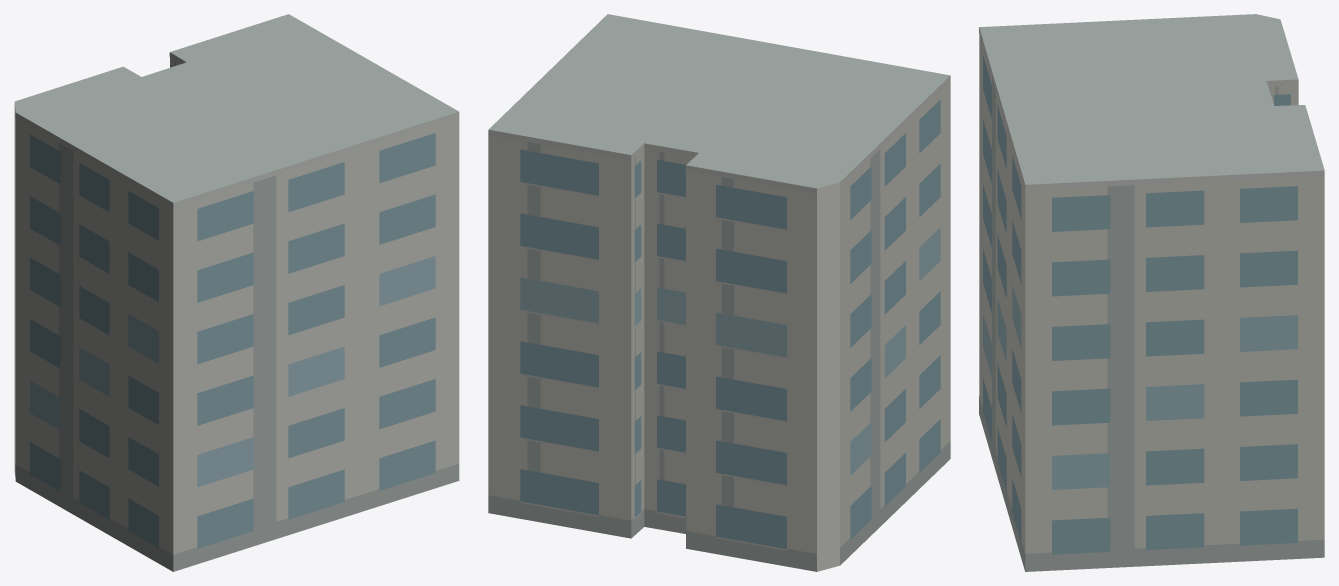
The model's file is survey-upis-32634005.glb.
The picture shows the model from 3 angles, left to right: view 1: azimuth 30°, elevation 25°; view 2: azimuth 150°, elevation 25°; view 3: azimuth 270°, elevation 25°; orthographic projection. The views are drawn at different scales.
Visible parts, largest first — view 1: survey-upis-32634005.tmp; view 2: survey-upis-32634005.tmp; view 3: survey-upis-32634005.tmp.
Boxes of the visible parts, x1,y1,x2,y2 form: survey-upis-32634005.tmp: (14,14,459,571); survey-upis-32634005.tmp: (488,14,950,571); survey-upis-32634005.tmp: (979,14,1324,571).
Size of the model in its own units: 16 by 16.9 by 13.68.
